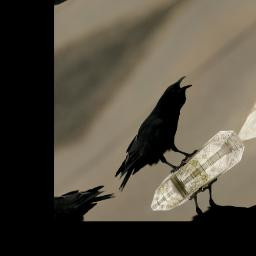Crow: (91, 74, 226, 209)
